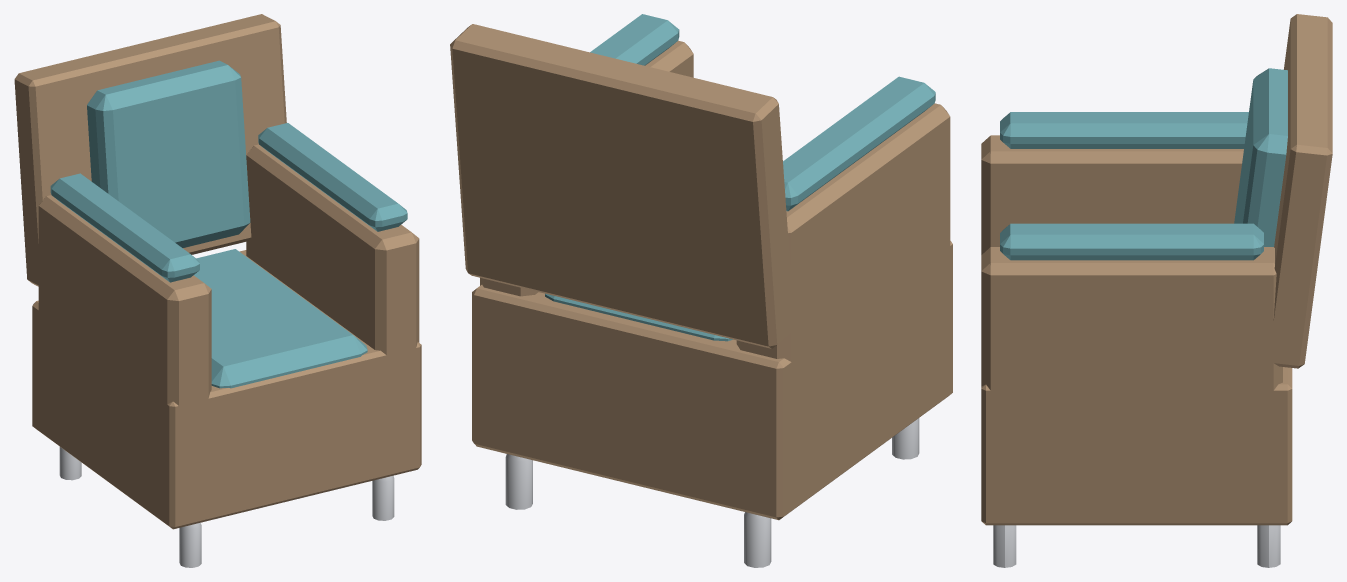
File: 35489_Interview_Chair__TV_Studio_and_Broadcast_Gallery_.glb
3 views of the same model, side by side, from view 1: azimuth 30°, elevation 25°; view 2: azimuth 150°, elevation 25°; view 3: azimuth 270°, elevation 25° (orthographic). The views are drawn at different scales.
Visible parts, largest first — view 1: interview-chair; view 2: interview-chair; view 3: interview-chair.
Part boxes in pixels (bbox=[...]): interview-chair: bbox=[14, 14, 421, 567]; interview-chair: bbox=[450, 14, 952, 567]; interview-chair: bbox=[981, 14, 1332, 567].
Bounding box in the file's own units: 0.68 × 1.01 × 0.7455.
